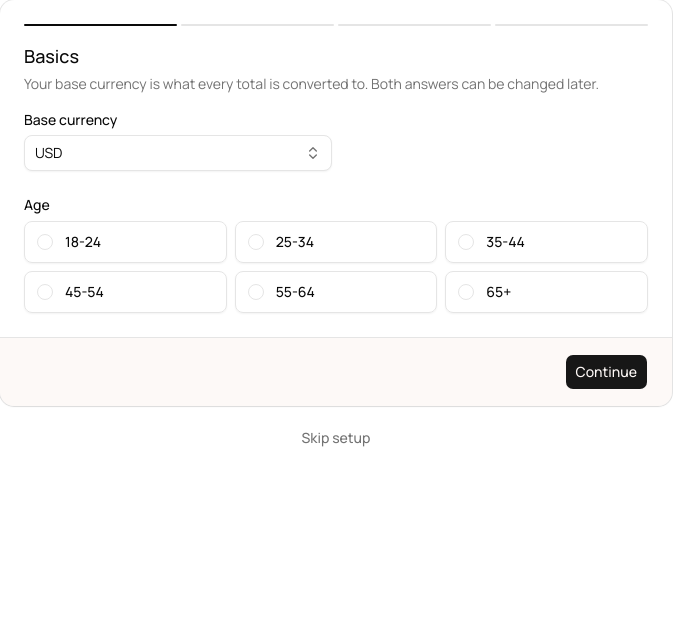
Scenario: OnboardingFlow › writes nothing when continuing with the prefilled currency and no answers
Click the button "Continue": (606, 372) 565,354 -> 648,390
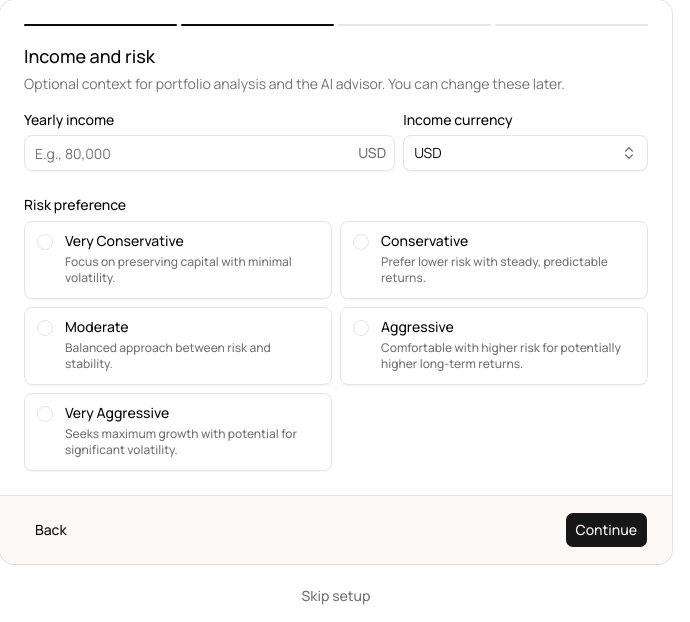
Now the heading "Income and risk" is shown, box 24,44 -> 155,68
